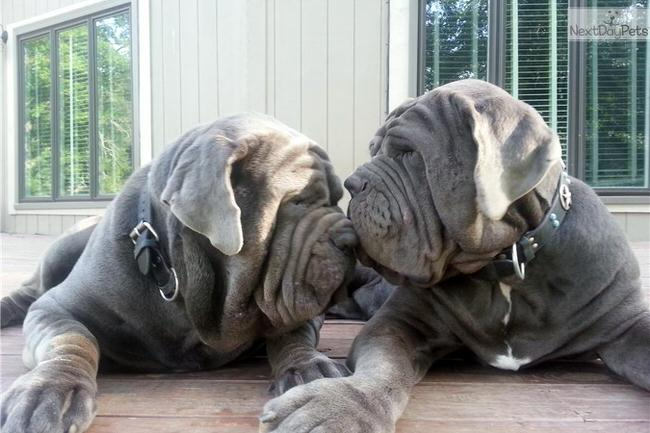neapolitan_mastiff: (259, 78, 650, 433), (0, 111, 359, 433)
